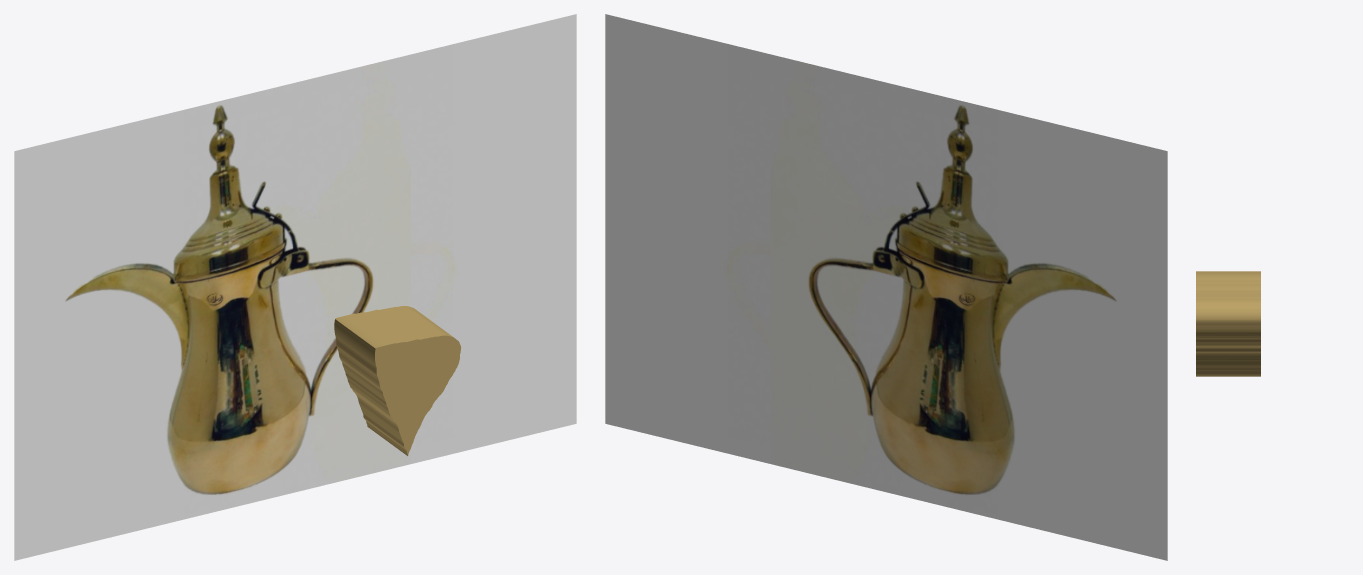
File: دلة.fbx
3 renders of one model, left to right at view 1: azimuth 30°, elevation 25°; view 2: azimuth 150°, elevation 25°; view 3: azimuth 270°, elevation 25°, orthographic. The views are drawn at different scales.
Parts seen in each view (by area): view 1: root (×2); view 2: root; view 3: root.
Part boxes in pixels (x1,y1,x2,y2): root (×2): (14, 14, 576, 560); root: (605, 14, 1167, 560); root: (1196, 271, 1260, 376).
Bounding box in the file's own units: 0.862 × 0.6 × 0.2538.
Materials: 2 (2 with a texture image).
